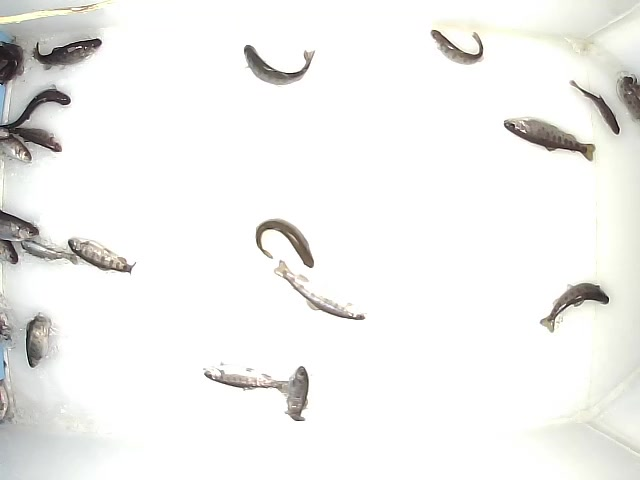fish: (273, 259, 365, 322), (501, 118, 596, 162), (538, 281, 610, 334), (1, 81, 73, 132), (202, 358, 290, 397), (241, 42, 315, 88), (252, 217, 313, 269), (569, 77, 621, 136), (65, 237, 137, 276), (31, 37, 105, 67), (430, 26, 484, 65), (21, 308, 50, 369), (21, 241, 78, 269), (284, 363, 309, 423)
